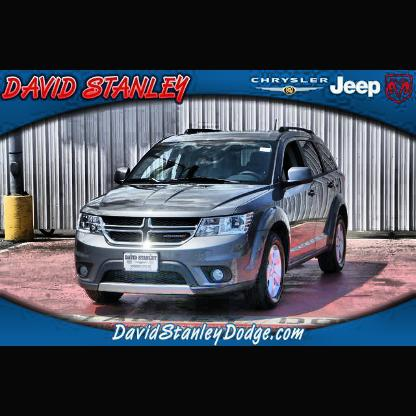Dodge Journey SUV 2012: (77, 128, 350, 306)
